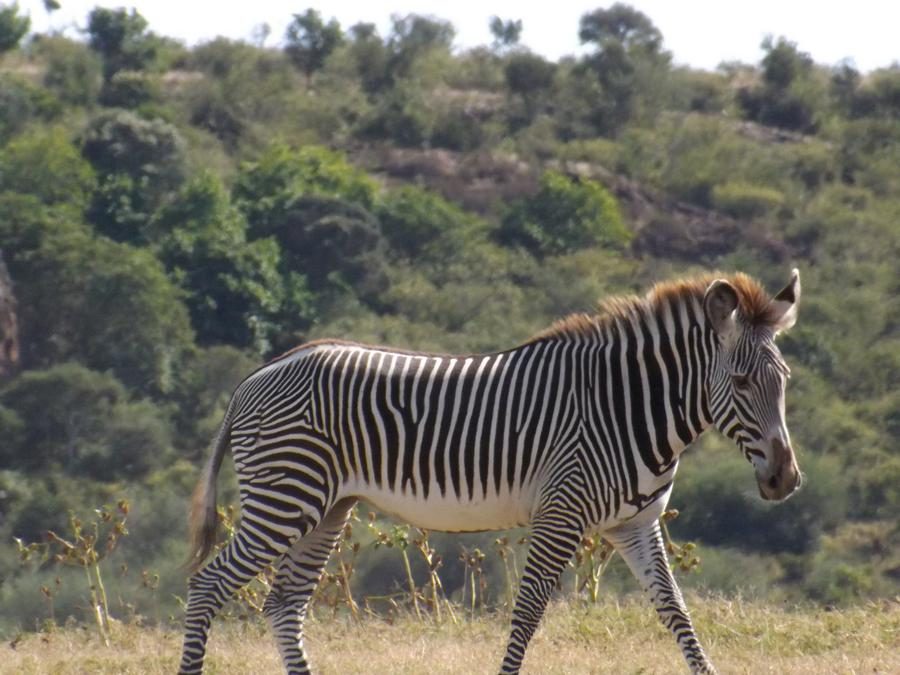zebra_grevys: (201, 341, 656, 510)
